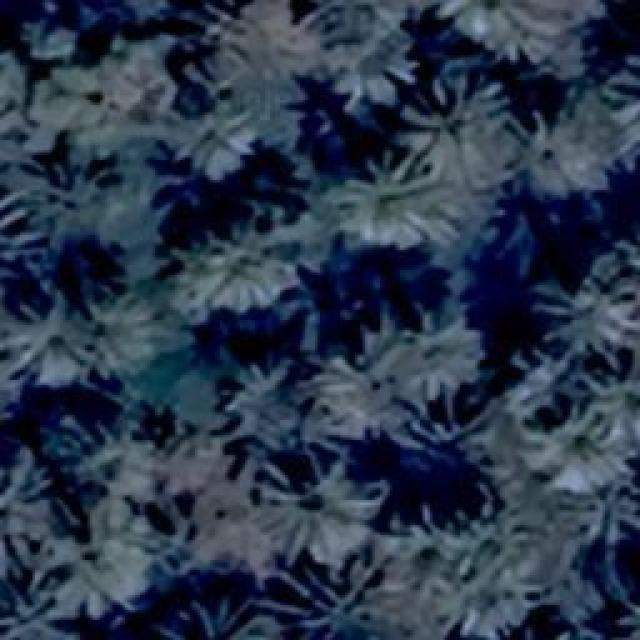PalmTree: (26, 111, 99, 511), (99, 22, 348, 111), (12, 268, 136, 392), (215, 348, 338, 466), (170, 210, 308, 315), (398, 450, 516, 570), (250, 457, 380, 565), (526, 378, 636, 498), (72, 42, 178, 163), (0, 150, 108, 248), (374, 290, 478, 390), (38, 505, 142, 603), (522, 94, 608, 208), (32, 405, 146, 490), (425, 71, 513, 181), (308, 18, 406, 106), (340, 148, 428, 242), (538, 270, 638, 352), (437, 0, 555, 65), (167, 92, 255, 178), (568, 348, 640, 449), (281, 567, 373, 640), (326, 314, 406, 396), (430, 574, 530, 638), (152, 592, 278, 638), (86, 291, 158, 370), (582, 546, 640, 640), (0, 574, 78, 638), (127, 502, 200, 570), (0, 185, 37, 309), (600, 50, 638, 170), (134, 398, 194, 464), (609, 210, 640, 324)
